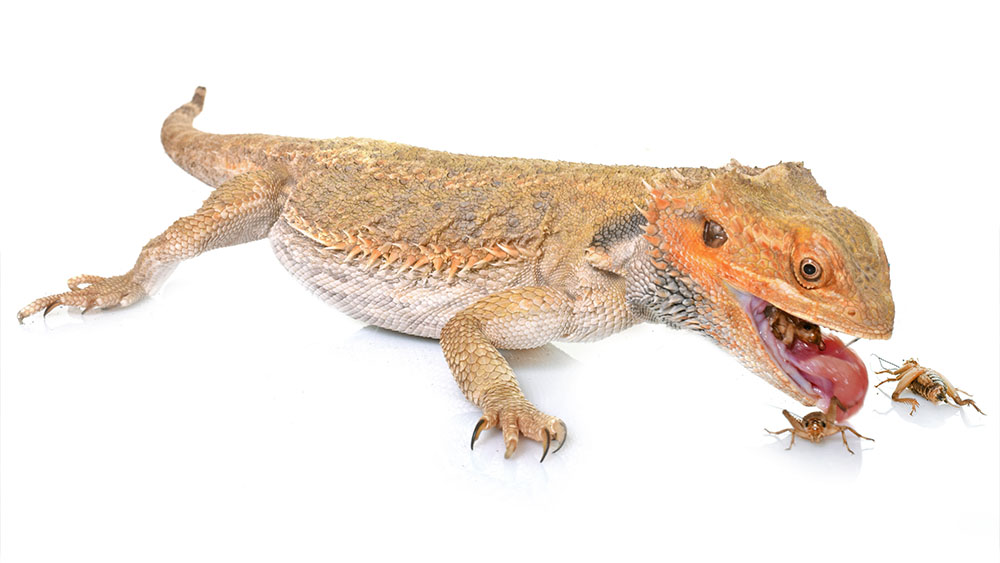bearded: (17, 86, 898, 470)
